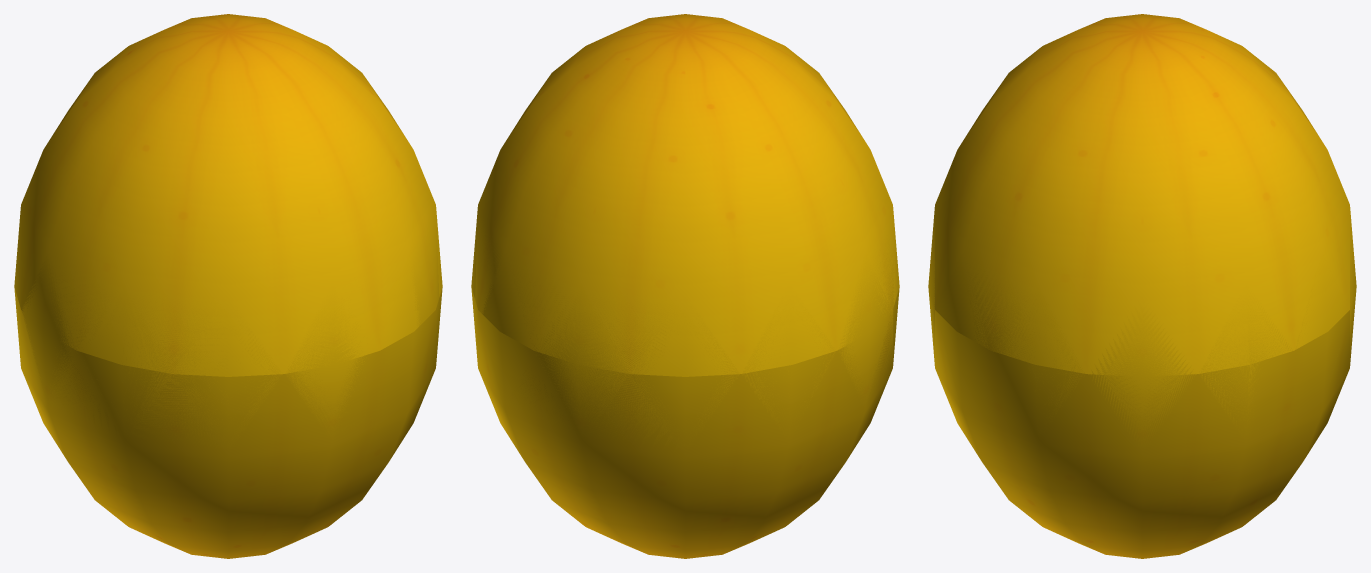
File: Honeydew.fbx
3 renders of one model, left to right at view 1: azimuth 30°, elevation 25°; view 2: azimuth 150°, elevation 25°; view 3: azimuth 270°, elevation 25°, orthographic.
Visible parts, largest first — view 1: HoneydewMelon_Half_Top, HoneydewMelon_Half_Bottom, HoneydewMelon_Whole; view 2: HoneydewMelon_Half_Top, HoneydewMelon_Half_Bottom, HoneydewMelon_Whole; view 3: HoneydewMelon_Half_Top, HoneydewMelon_Half_Bottom, HoneydewMelon_Whole.
Boxes of the visible parts, <box> form: HoneydewMelon_Half_Top: <box>14,14,442,376</box>; HoneydewMelon_Half_Bottom: <box>14,287,442,558</box>; HoneydewMelon_Whole: <box>21,207,439,454</box>; HoneydewMelon_Half_Top: <box>471,14,899,376</box>; HoneydewMelon_Half_Bottom: <box>471,287,899,558</box>; HoneydewMelon_Whole: <box>475,207,894,453</box>; HoneydewMelon_Half_Top: <box>934,14,1350,375</box>; HoneydewMelon_Half_Bottom: <box>935,310,1349,558</box>; HoneydewMelon_Whole: <box>928,207,1356,452</box>.
Size of the model in its own units: 2.09 by 2.74 by 2.09.
